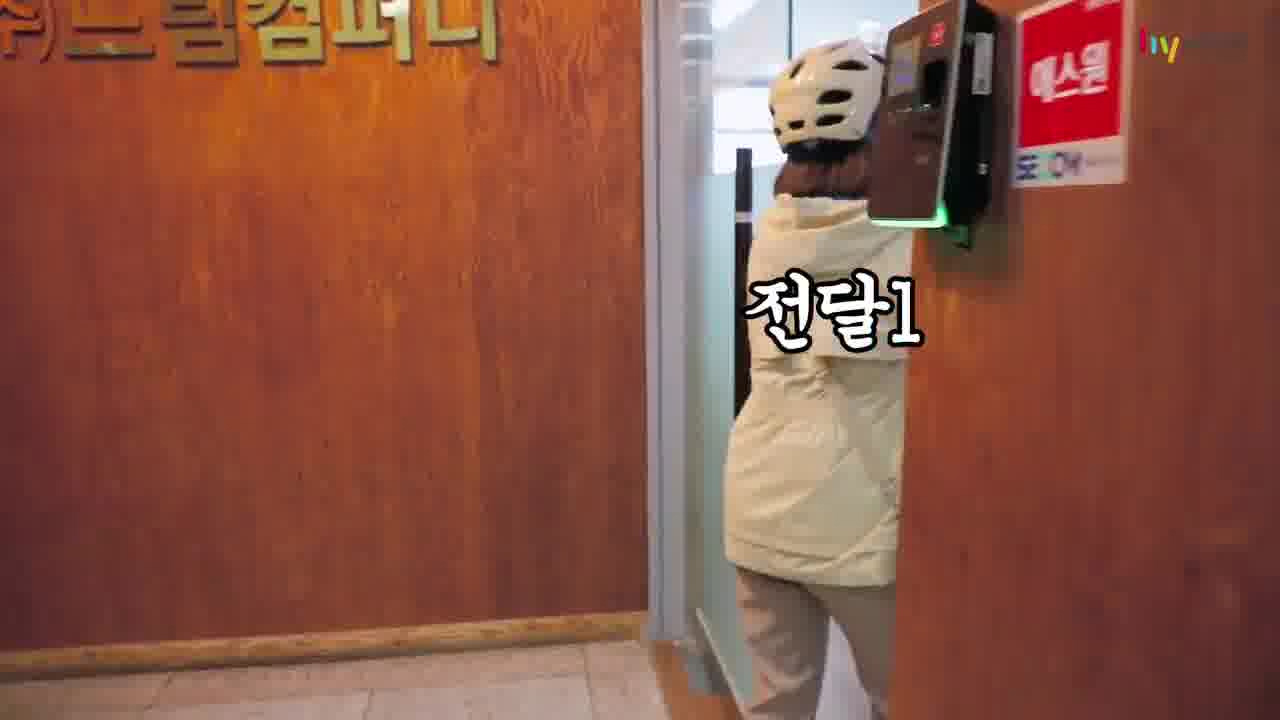Yakurut: (706, 34, 918, 720)
